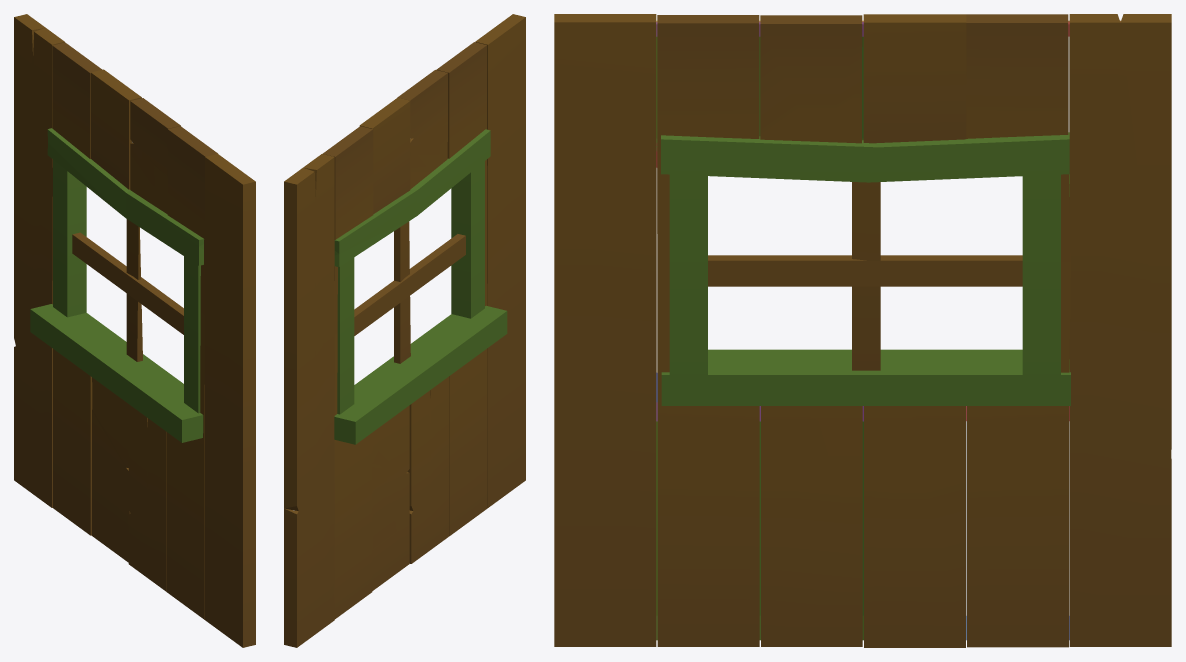
File: WindowWoodenWall.fbx
The picture shows the model from 3 angles, left to right: view 1: azimuth 30°, elevation 25°; view 2: azimuth 150°, elevation 25°; view 3: azimuth 270°, elevation 25°; orthographic projection. The views are drawn at different scales.
Visible parts, largest first — view 1: Wall, Window.001; view 2: Wall, Window.001; view 3: Wall, Window.001.
Part boxes in pixels (bbox=[...]): Wall: bbox=[14, 14, 255, 647]; Window.001: bbox=[30, 128, 204, 442]; Wall: bbox=[284, 14, 525, 647]; Window.001: bbox=[334, 129, 507, 444]; Wall: bbox=[554, 14, 1171, 647]; Window.001: bbox=[661, 132, 1070, 405].
Bounding box in the file's own units: 17.63 × 190 × 170.
